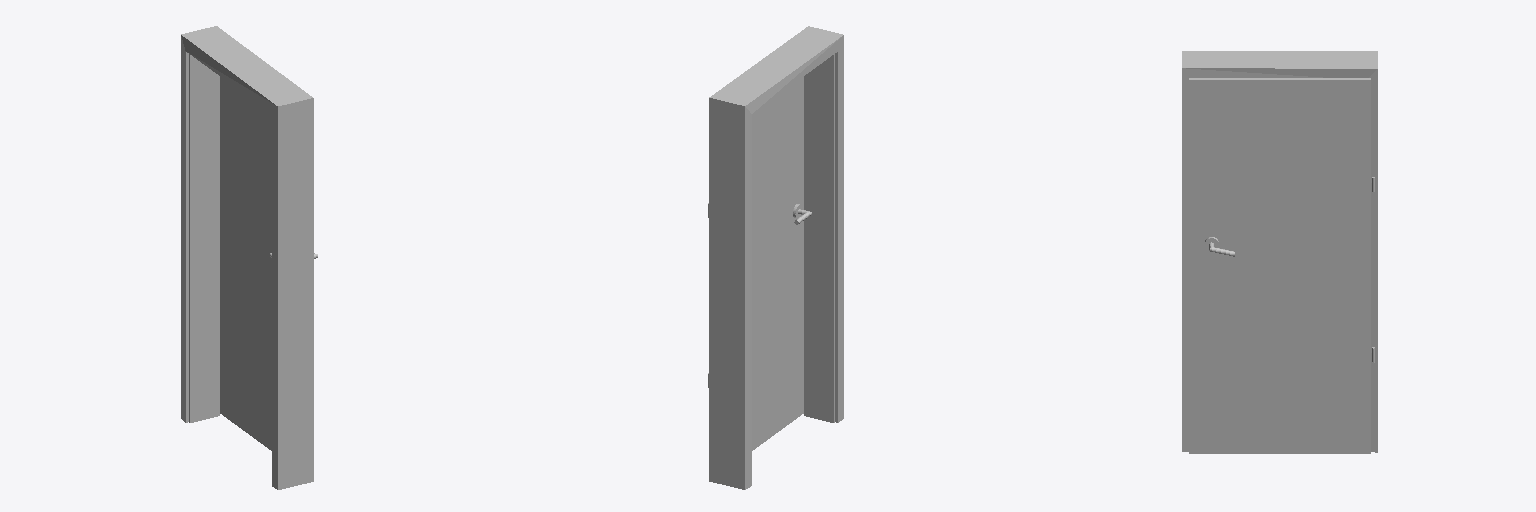
Rendered from door89.obj.
3 views of the same model, side by side, from view 1: azimuth 30°, elevation 25°; view 2: azimuth 150°, elevation 25°; view 3: azimuth 270°, elevation 25° (orthographic).
Parts seen in each view (by area): view 1: Cylinder.005, Cylinder.001; view 2: Cylinder.005, Cylinder.001; view 3: Cylinder.001, Cylinder.005.
Boxes of the visible parts, <box> form: Cylinder.005: <box>181,26,313,489</box>; Cylinder.001: <box>220,77,271,450</box>; Cylinder.005: <box>708,26,843,489</box>; Cylinder.001: <box>708,77,803,450</box>; Cylinder.001: <box>1189,78,1374,453</box>; Cylinder.005: <box>1182,51,1377,452</box>.
Bounding box in the file's own units: 0.3039 × 2.05 × 0.95.